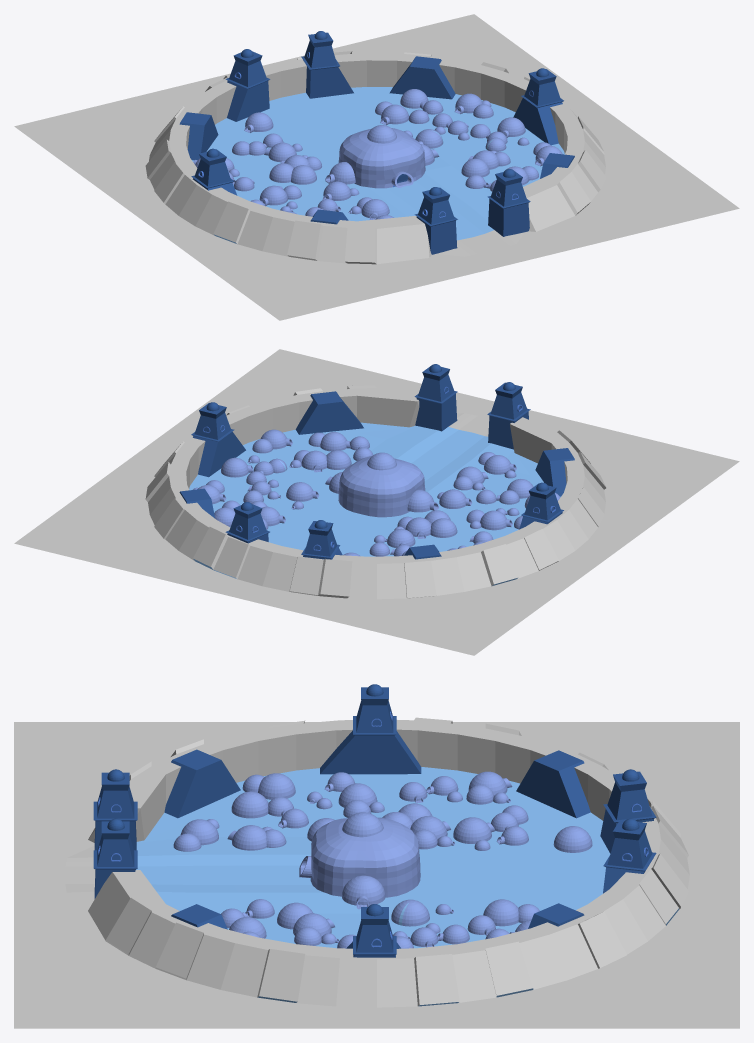
The model's file is TribuAguaRoku.fbx.
3 renders of one model, top to bottom at view 1: azimuth 30°, elevation 25°; view 2: azimuth 150°, elevation 25°; view 3: azimuth 270°, elevation 25°, orthographic. The views are drawn at different scales.
Parts seen in each view (by area): view 1: Plane; view 2: Plane; view 3: Plane.
Part boxes in pixels (bbox=[...]): Plane: bbox=[14, 14, 739, 320]; Plane: bbox=[14, 349, 739, 655]; Plane: bbox=[14, 684, 739, 1028].
Size of the model in its own units: 200 by 24.81 by 200.
